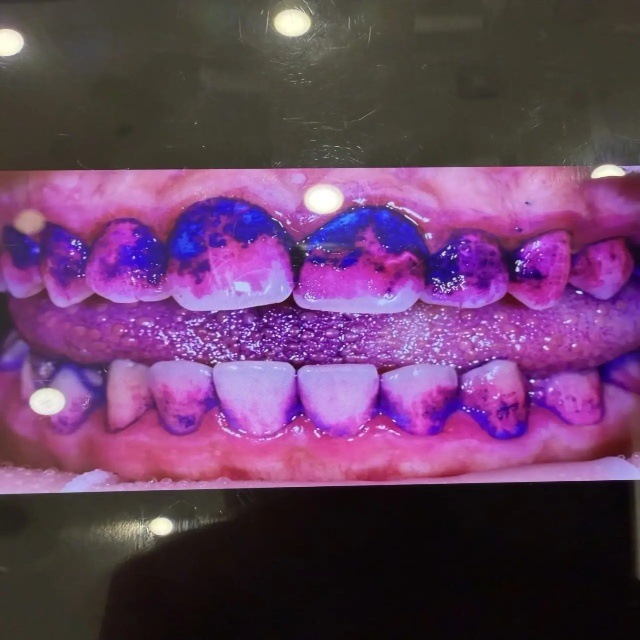clean_tooth: (270, 3, 312, 38), (115, 517, 174, 536), (0, 28, 22, 55)
plaque: (0, 191, 639, 492)
